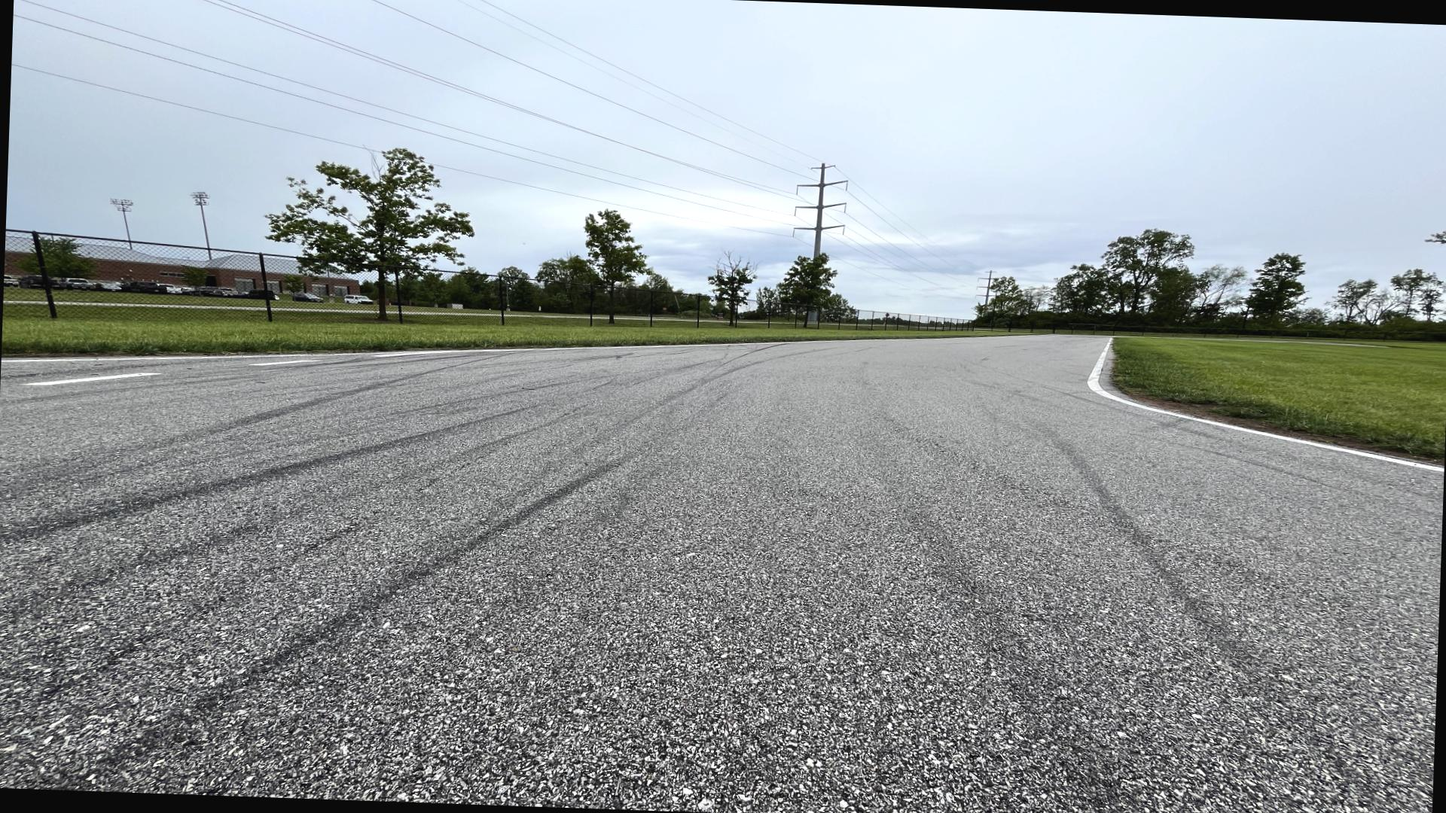white-line: (1086, 338, 1444, 472), (2, 338, 949, 362), (20, 373, 158, 386), (248, 360, 319, 367)
